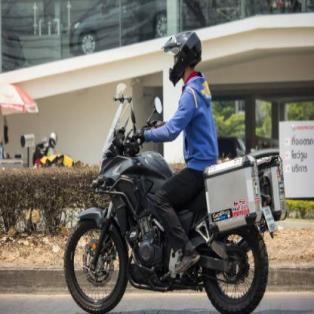Motocicleta: (60, 106, 277, 313)
